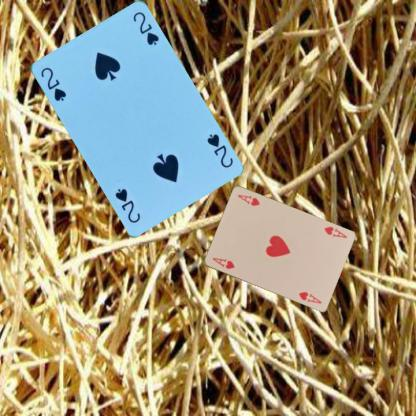2s: (204, 131, 234, 169), (38, 64, 67, 102)
Ah: (321, 224, 348, 239), (210, 255, 236, 270)
